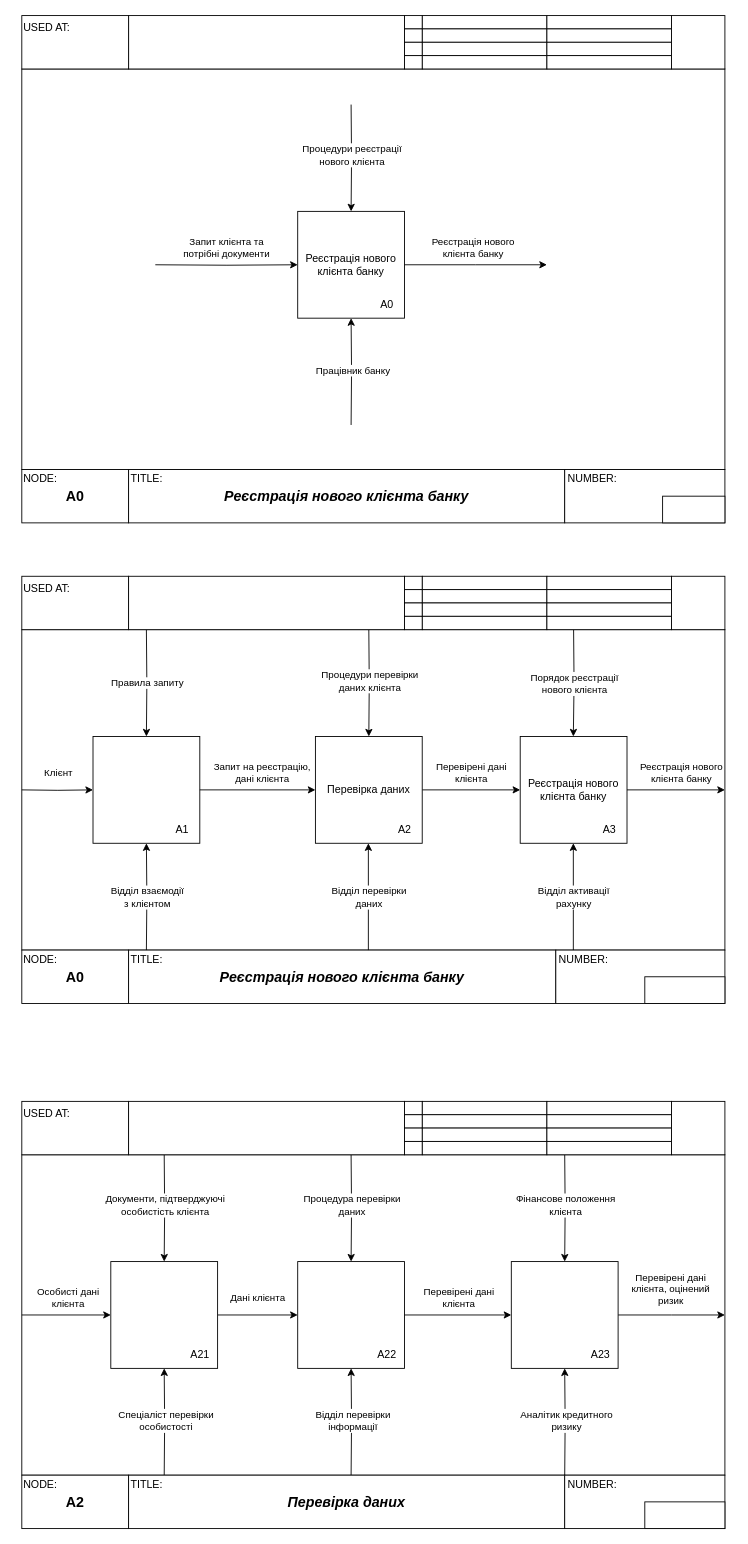
Image size: 748x1544. Some labels were removed from this diagram. The shapes that lost their labels are listed below. From the top down, each one's box as (x1, y1, x2, y2) in pixels, then its label:
(92, 736, 200, 843): Запит на реєстрацію
(110, 1261, 218, 1368): Ідентифікація клієнта
(297, 1261, 405, 1368): Підтвердження наданої інформації
(510, 1261, 618, 1368): Оцінка ризику та обставин клієнта
